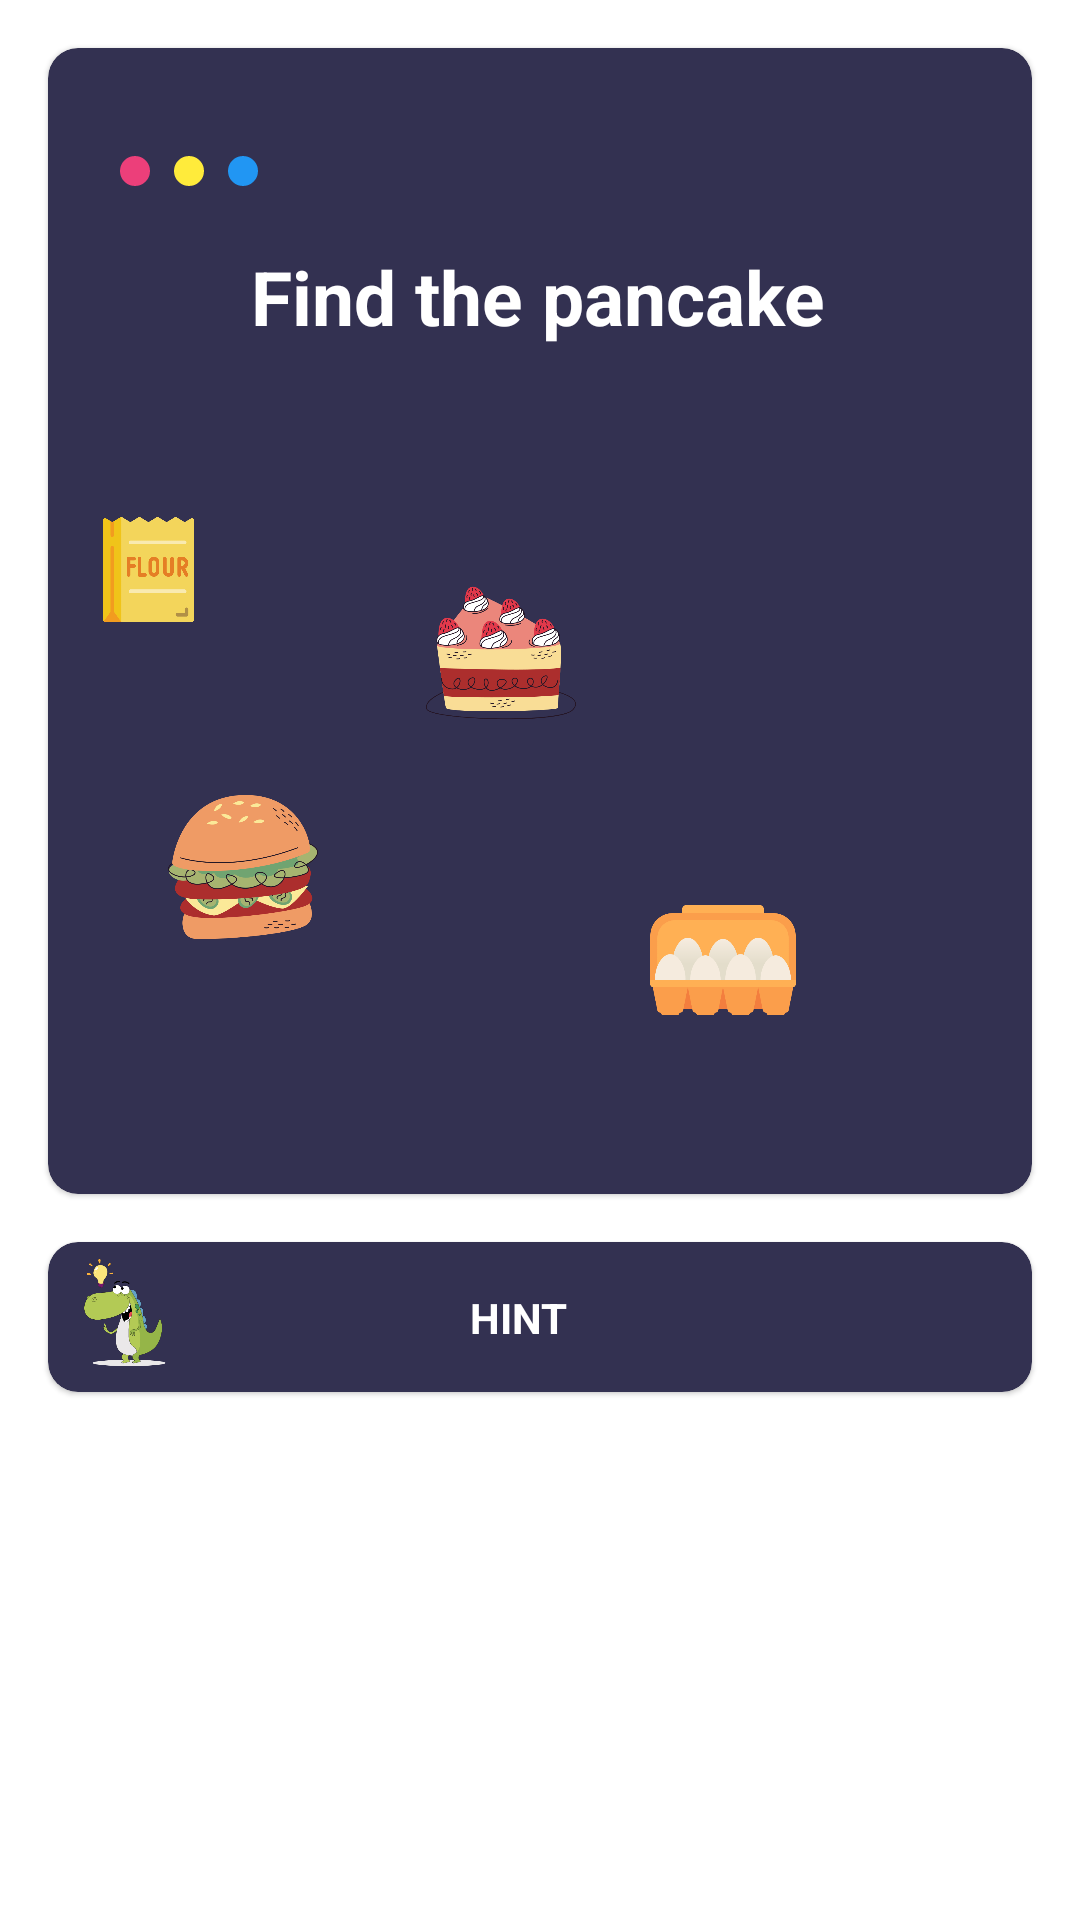

Locate icon controls on the screen. Image size 1080 × 1920, boxes as (x1, y1, x2, y2).
burger: (168, 795, 318, 939)
cake: (426, 587, 576, 719)
eggs: (650, 905, 796, 1015)
